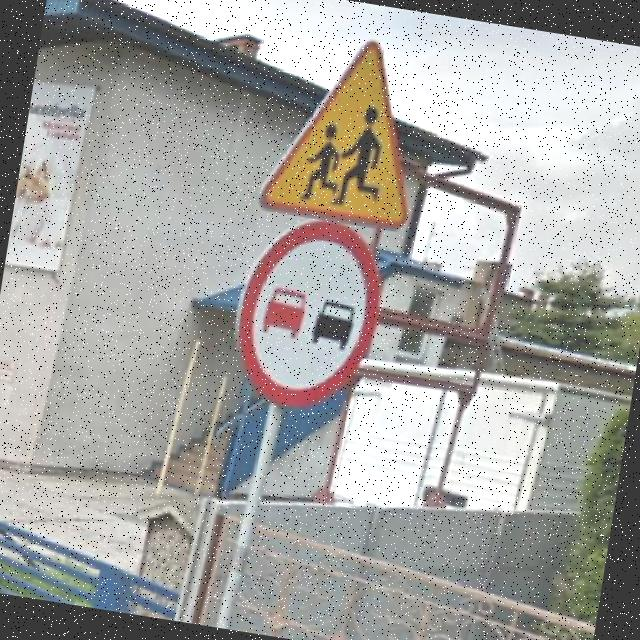Dzieci: (257, 26, 438, 230)
Zakaz wyprzedzania: (222, 206, 394, 420)
